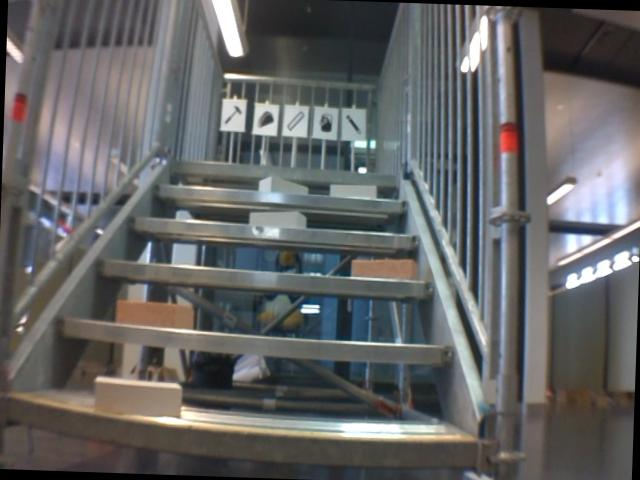brick: (92, 376, 181, 417), (115, 300, 191, 329), (352, 258, 418, 280), (257, 175, 307, 194), (250, 210, 305, 227), (330, 183, 376, 197)
bucket: (316, 110, 335, 134)
edge: (8, 396, 478, 468), (56, 317, 455, 365), (92, 259, 431, 297), (127, 217, 419, 248), (152, 183, 409, 213), (172, 159, 399, 185)
hammer: (221, 103, 242, 128)
pencil: (342, 111, 364, 137)
ruler: (283, 108, 305, 133)
steps: (5, 151, 491, 471)
taco: (254, 105, 274, 130)
